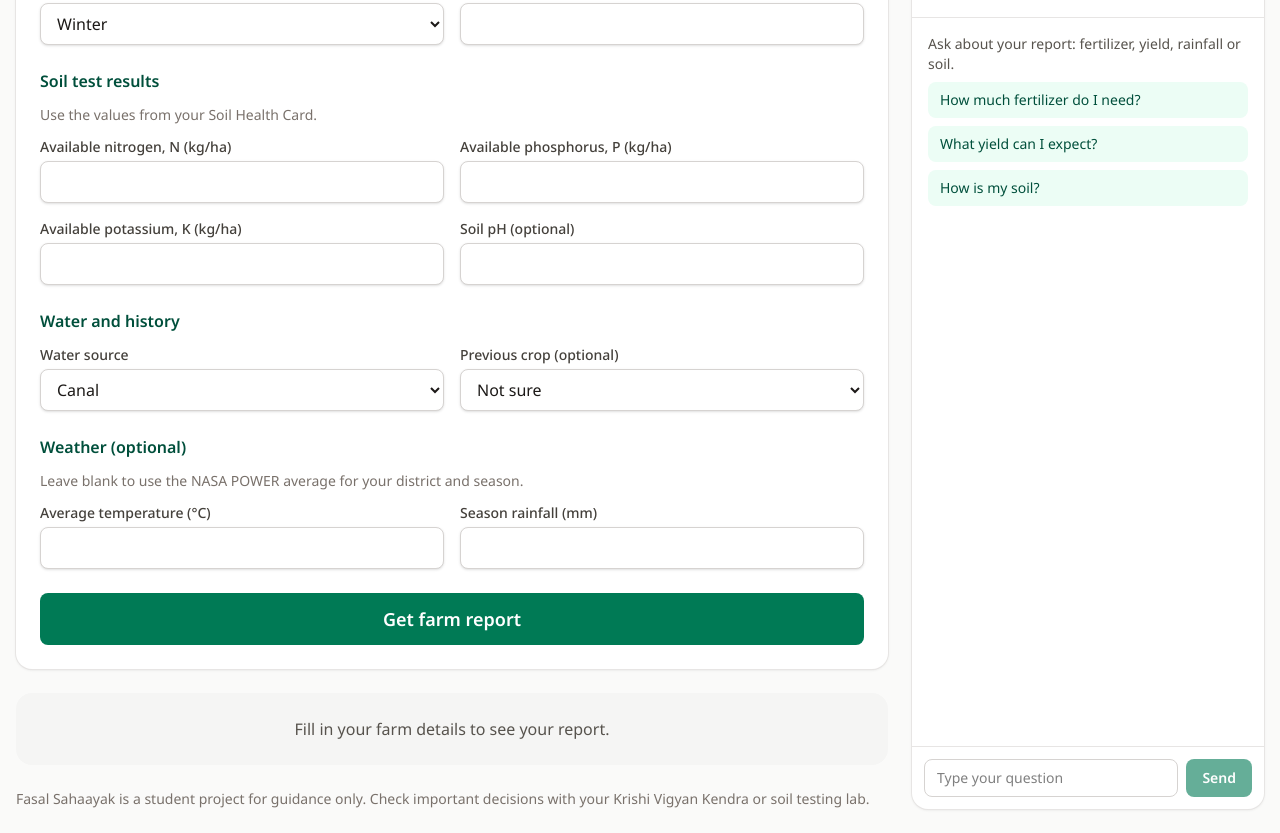
Test: chat › keeps the question for retry when sending fails
This screenshot has width=1280, height=833.
(page scrolled)
In the field labelled "Type your question": (1051, 778) [924,759,1178,797], type "Hello"
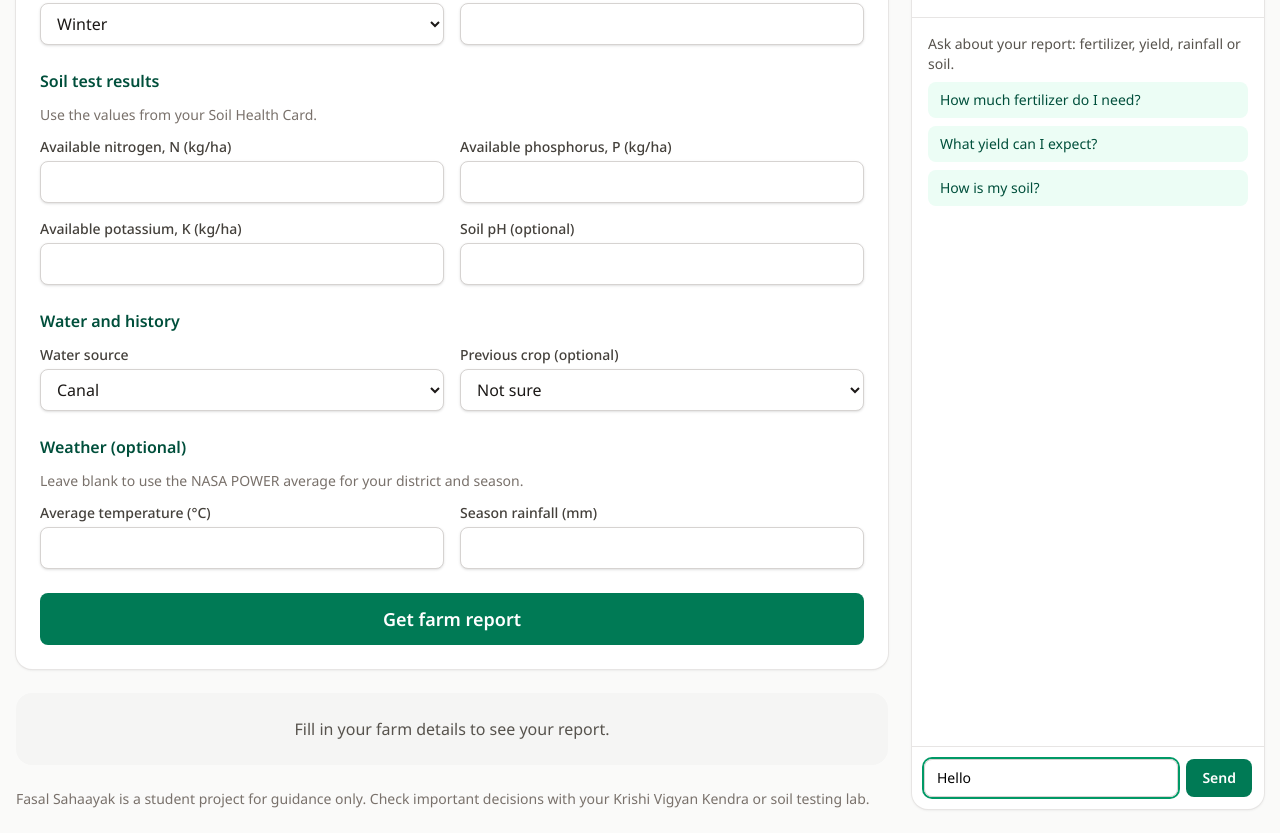
Click the button "Send": (1219, 778) [1186,759,1252,797]
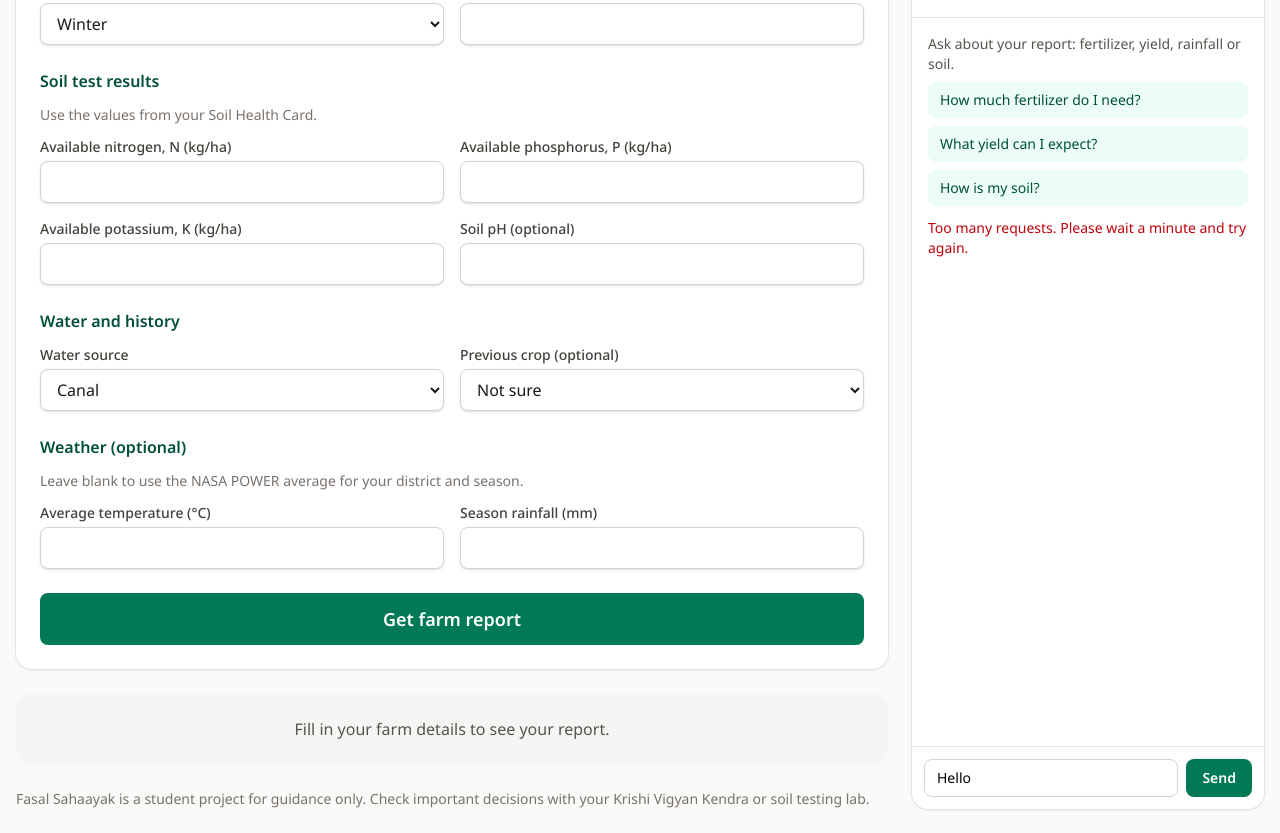
Result: the text "Too many requests. Please wait a minute and try again." is shown at [928,218,1248,258]
